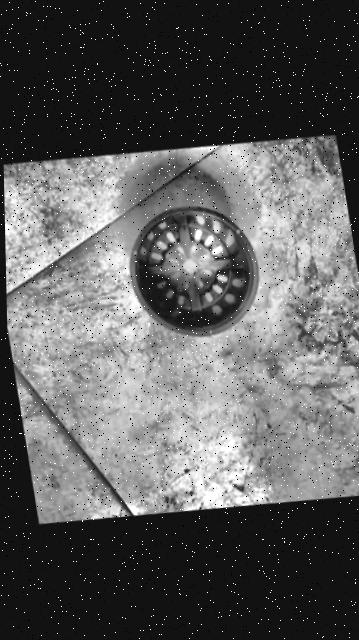pot: (118, 194, 266, 349)
